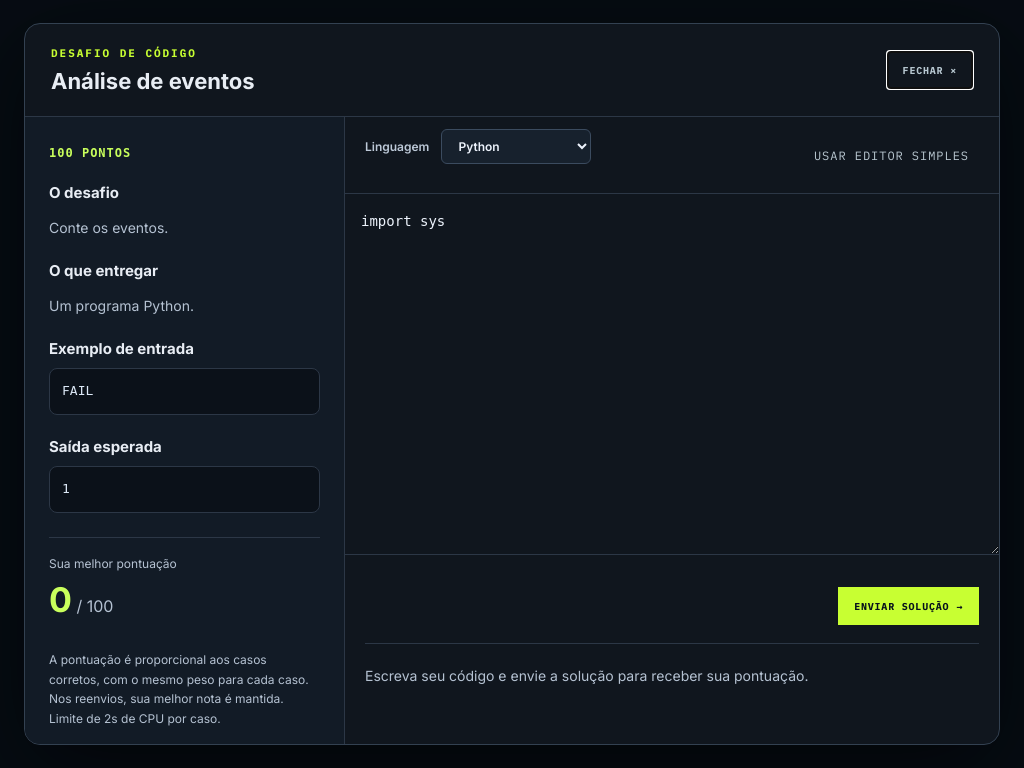
candidate submissions › shows validation errors without losing the written code
Replace the text in the text box named "Editor de código" with "print(7)" at (672,374), box [345,194,999,554]
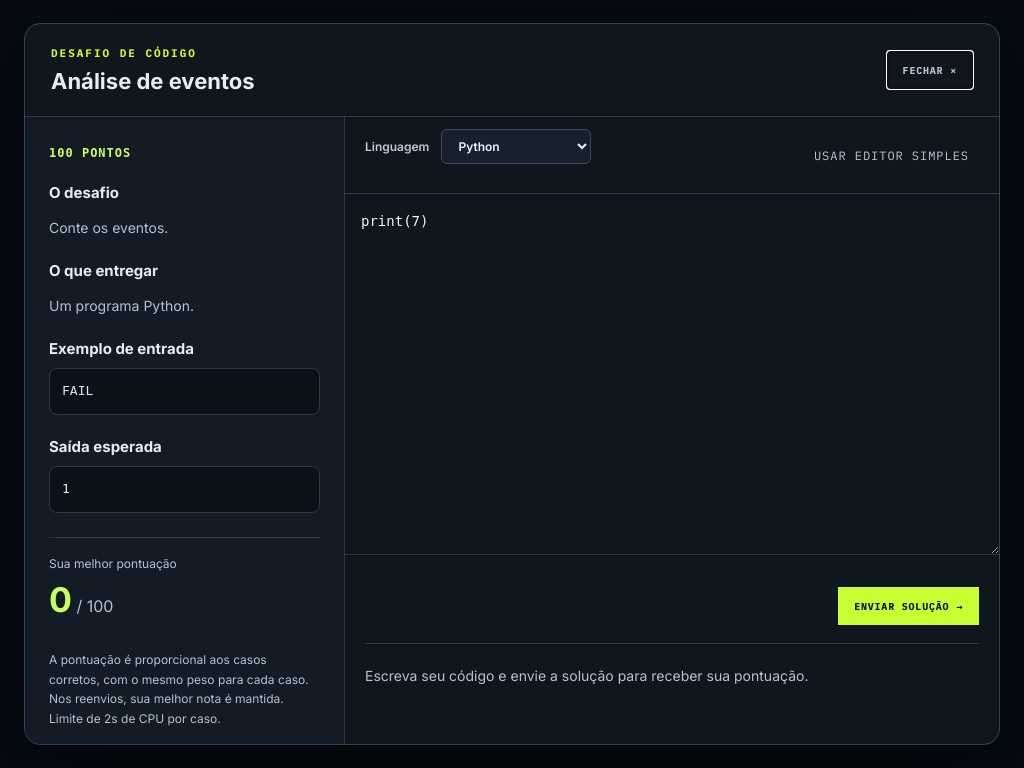
Click the button "ENVIAR SOLUÇÃO →" at (909,606), box [838,587,979,625]
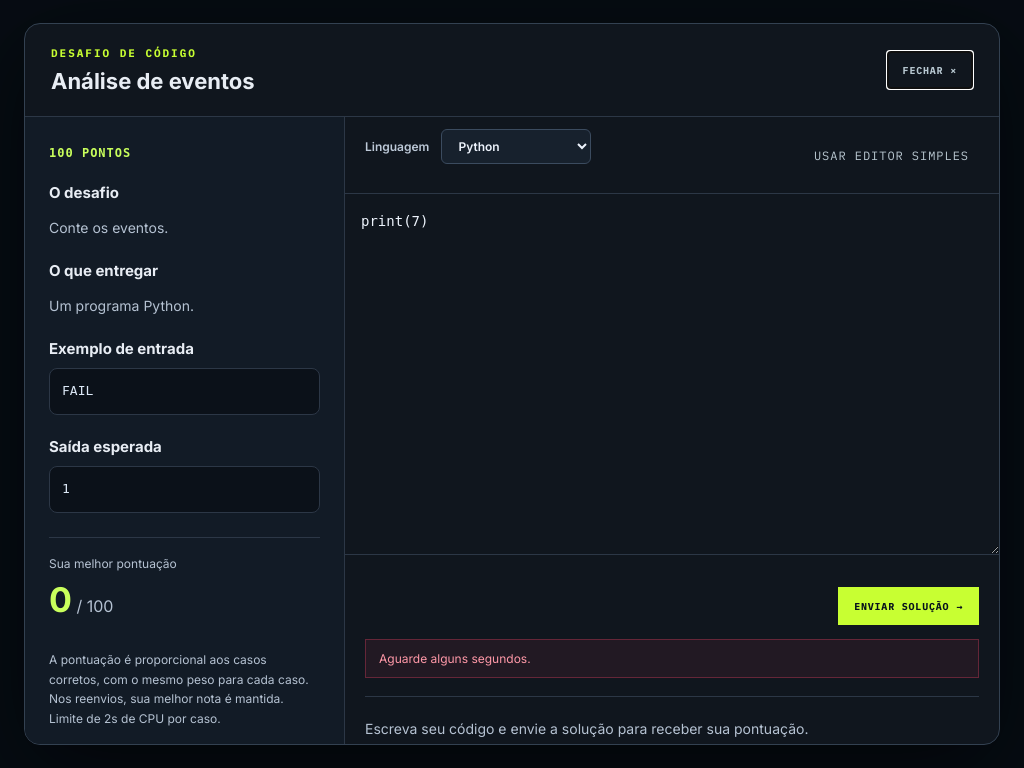
Expected: the text "Aguarde alguns segundos." is shown, [365,639,979,678]
